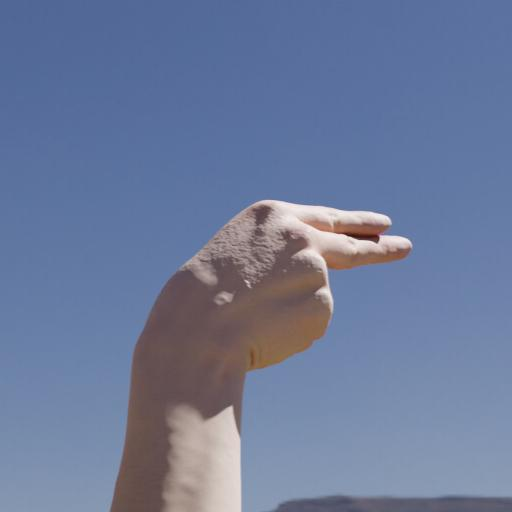H: (135, 147, 452, 424)
